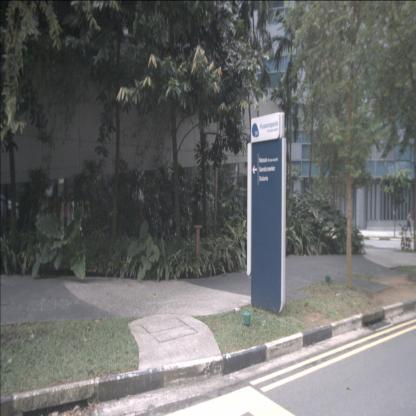human-pedestrian-adult: (404, 212, 412, 236)
vehicle-bicycle: (398, 223, 412, 252)
